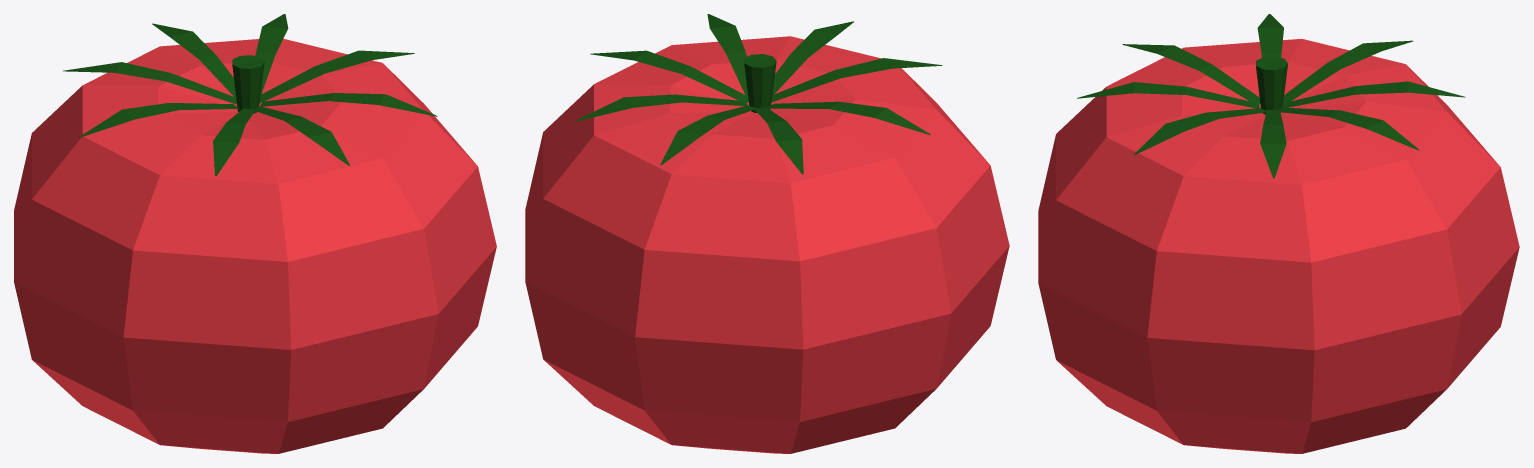
Rendered from Tomato.fbx.
The picture shows the model from 3 angles, left to right: view 1: azimuth 30°, elevation 25°; view 2: azimuth 150°, elevation 25°; view 3: azimuth 270°, elevation 25°; orthographic projection.
Visible parts, largest first — view 1: Plane, Plane.001; view 2: Plane, Plane.001; view 3: Plane, Plane.001.
Boxes of the visible parts, box(x1,y1,x2,y2) form: Plane: box(14, 38, 496, 453); Plane.001: box(63, 14, 437, 176); Plane: box(525, 36, 1009, 453); Plane.001: box(574, 14, 942, 174); Plane: box(1038, 38, 1519, 453); Plane.001: box(1077, 14, 1465, 178).
Size of the model in its own units: 262 by 210 by 258.
Materials: 1 (1 with a texture image).
